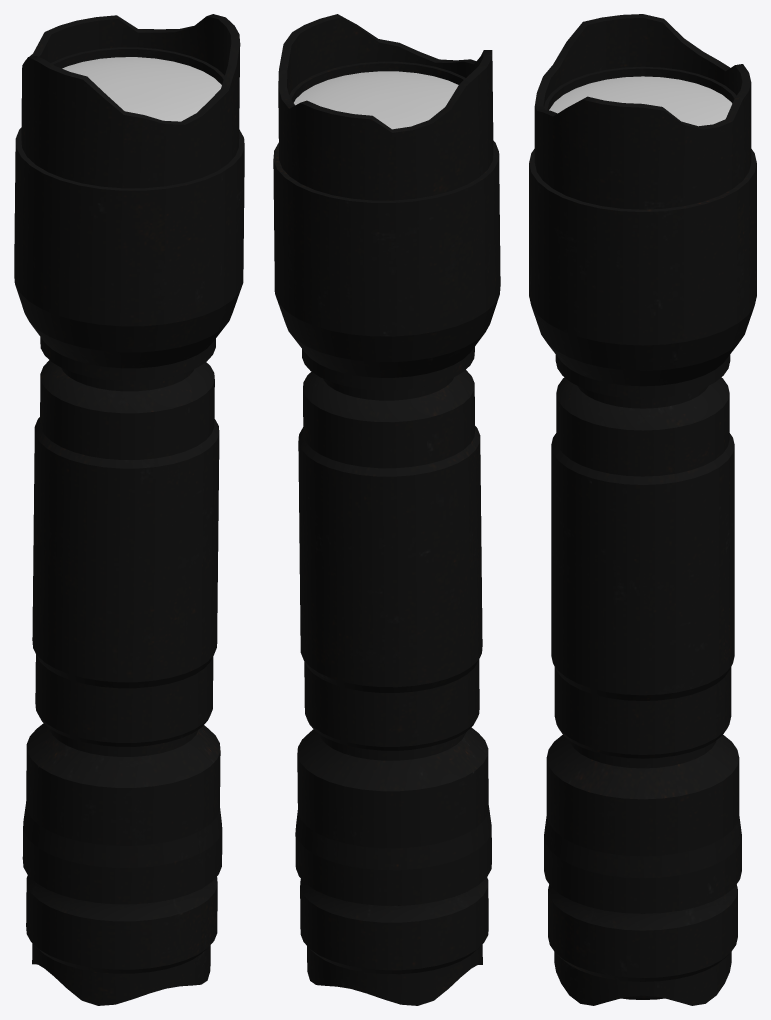
The model's file is flashlight.obj.
The picture shows the model from 3 angles, left to right: view 1: azimuth 30°, elevation 25°; view 2: azimuth 150°, elevation 25°; view 3: azimuth 270°, elevation 25°; orthographic projection.
Parts seen in each view (by area): view 1: Low_Circle.001; view 2: Low_Circle.001; view 3: Low_Circle.001.
Boxes of the visible parts, x1,y1,x2,y2 form: Low_Circle.001: (14,14,244,1005); Low_Circle.001: (273,14,500,1005); Low_Circle.001: (529,14,756,1005).
Size of the model in its own units: 0.0603 by 0.2674 by 0.0598.
3 materials, 2 textured.
